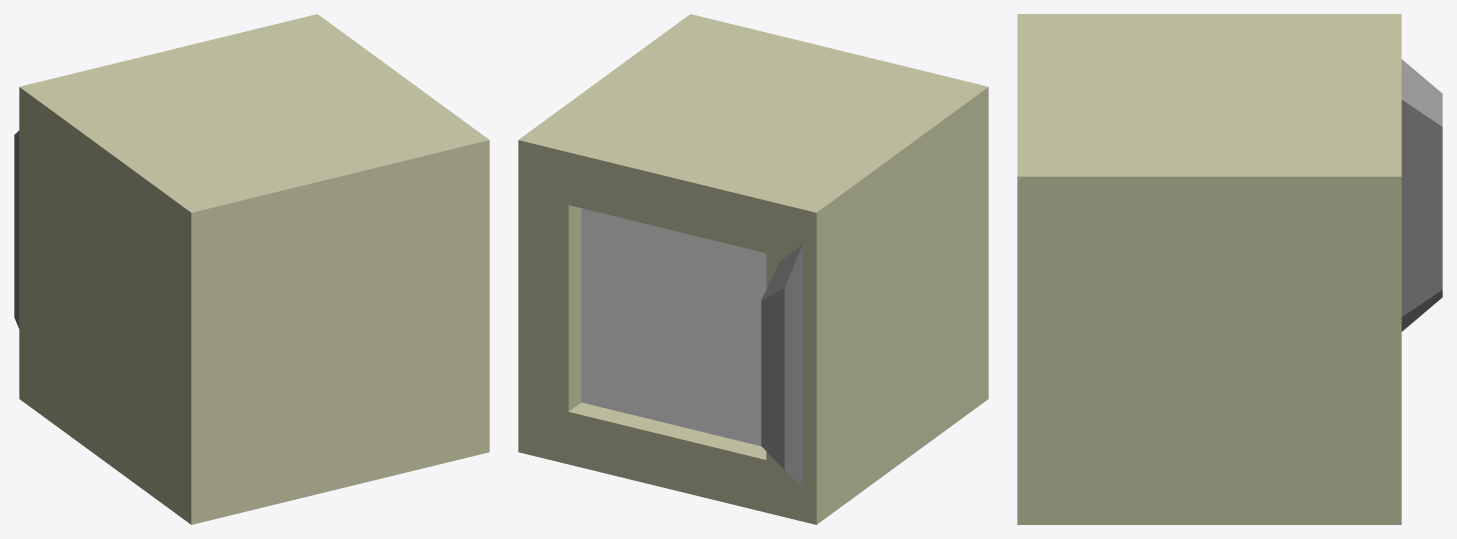
Rendered from microwave.fbx.
3 renders of one model, left to right at view 1: azimuth 30°, elevation 25°; view 2: azimuth 150°, elevation 25°; view 3: azimuth 270°, elevation 25°, orthographic. The views are drawn at different scales.
Parts seen in each view (by area): view 1: microwave; view 2: microwave; view 3: microwave.
Boxes of the visible parts, <box> form: microwave: <box>14,14,489,524</box>; microwave: <box>518,14,988,524</box>; microwave: <box>1017,14,1442,524</box>.
Bounding box in the file's own units: 1 × 1.11 × 1.
